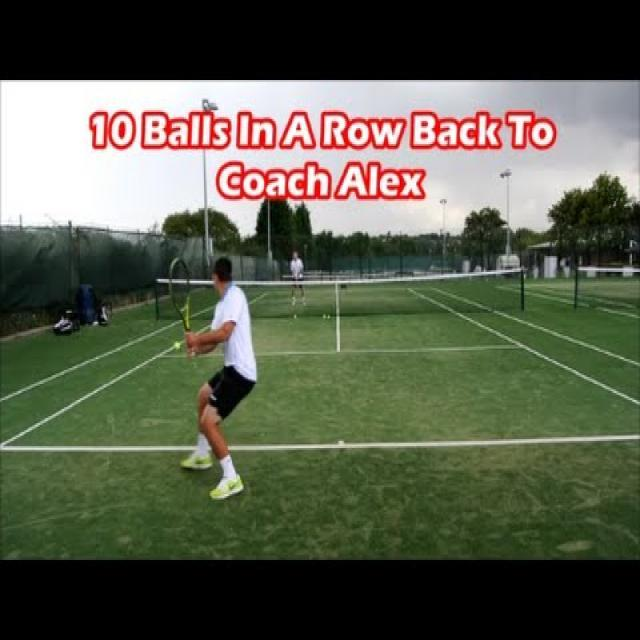court: (2, 315, 640, 551)
net: (151, 268, 533, 324)
player: (158, 245, 266, 510)
